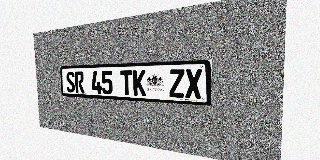4: (91, 71, 102, 94)
5: (101, 71, 113, 94)
K: (133, 70, 146, 96)
R: (74, 71, 85, 93)
S: (66, 72, 75, 93)
T: (120, 70, 133, 95)
X: (185, 69, 202, 99)
Z: (169, 69, 185, 98)
